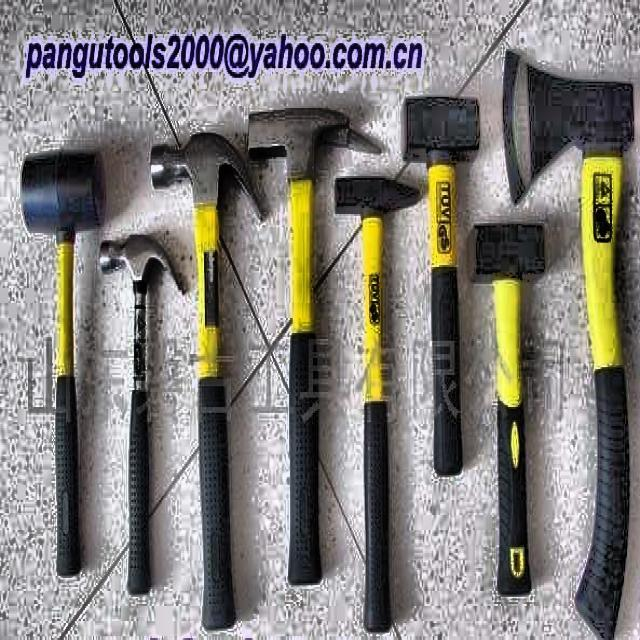hammer: (151, 131, 261, 630), (248, 106, 348, 584), (335, 176, 419, 628), (403, 94, 479, 470), (99, 234, 177, 593), (471, 222, 546, 592)
